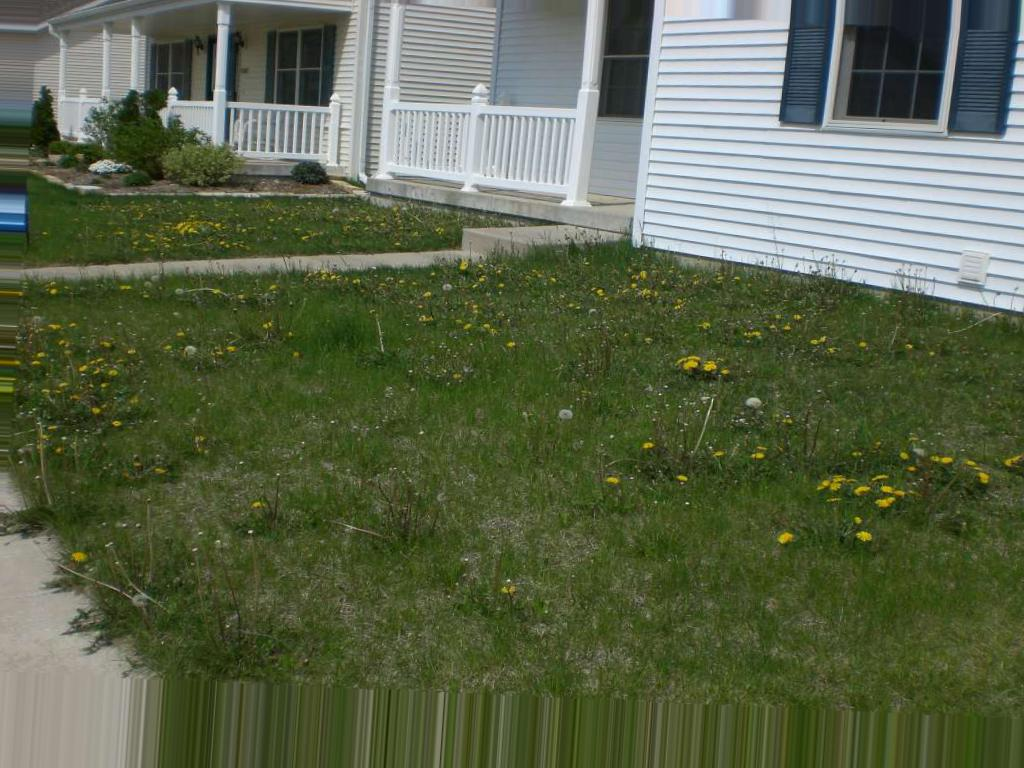patch: (347, 589, 502, 677)
